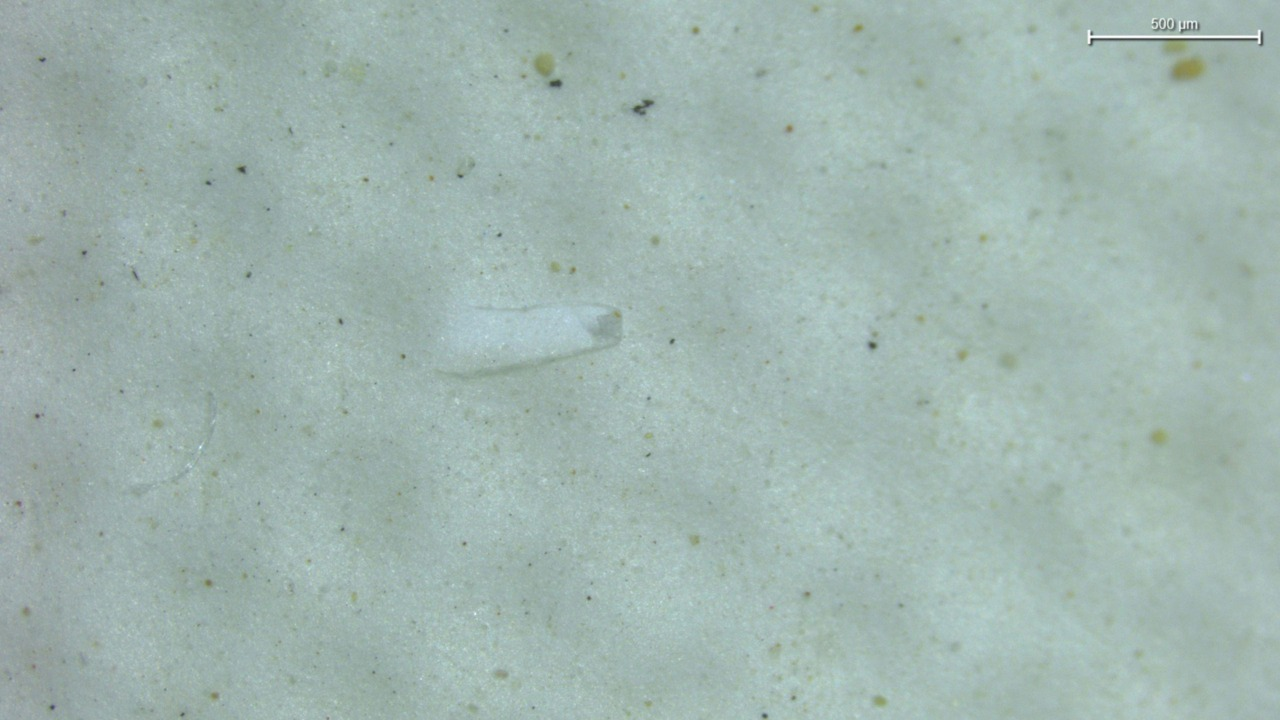microplastic_fragment: (431, 304, 622, 378)
